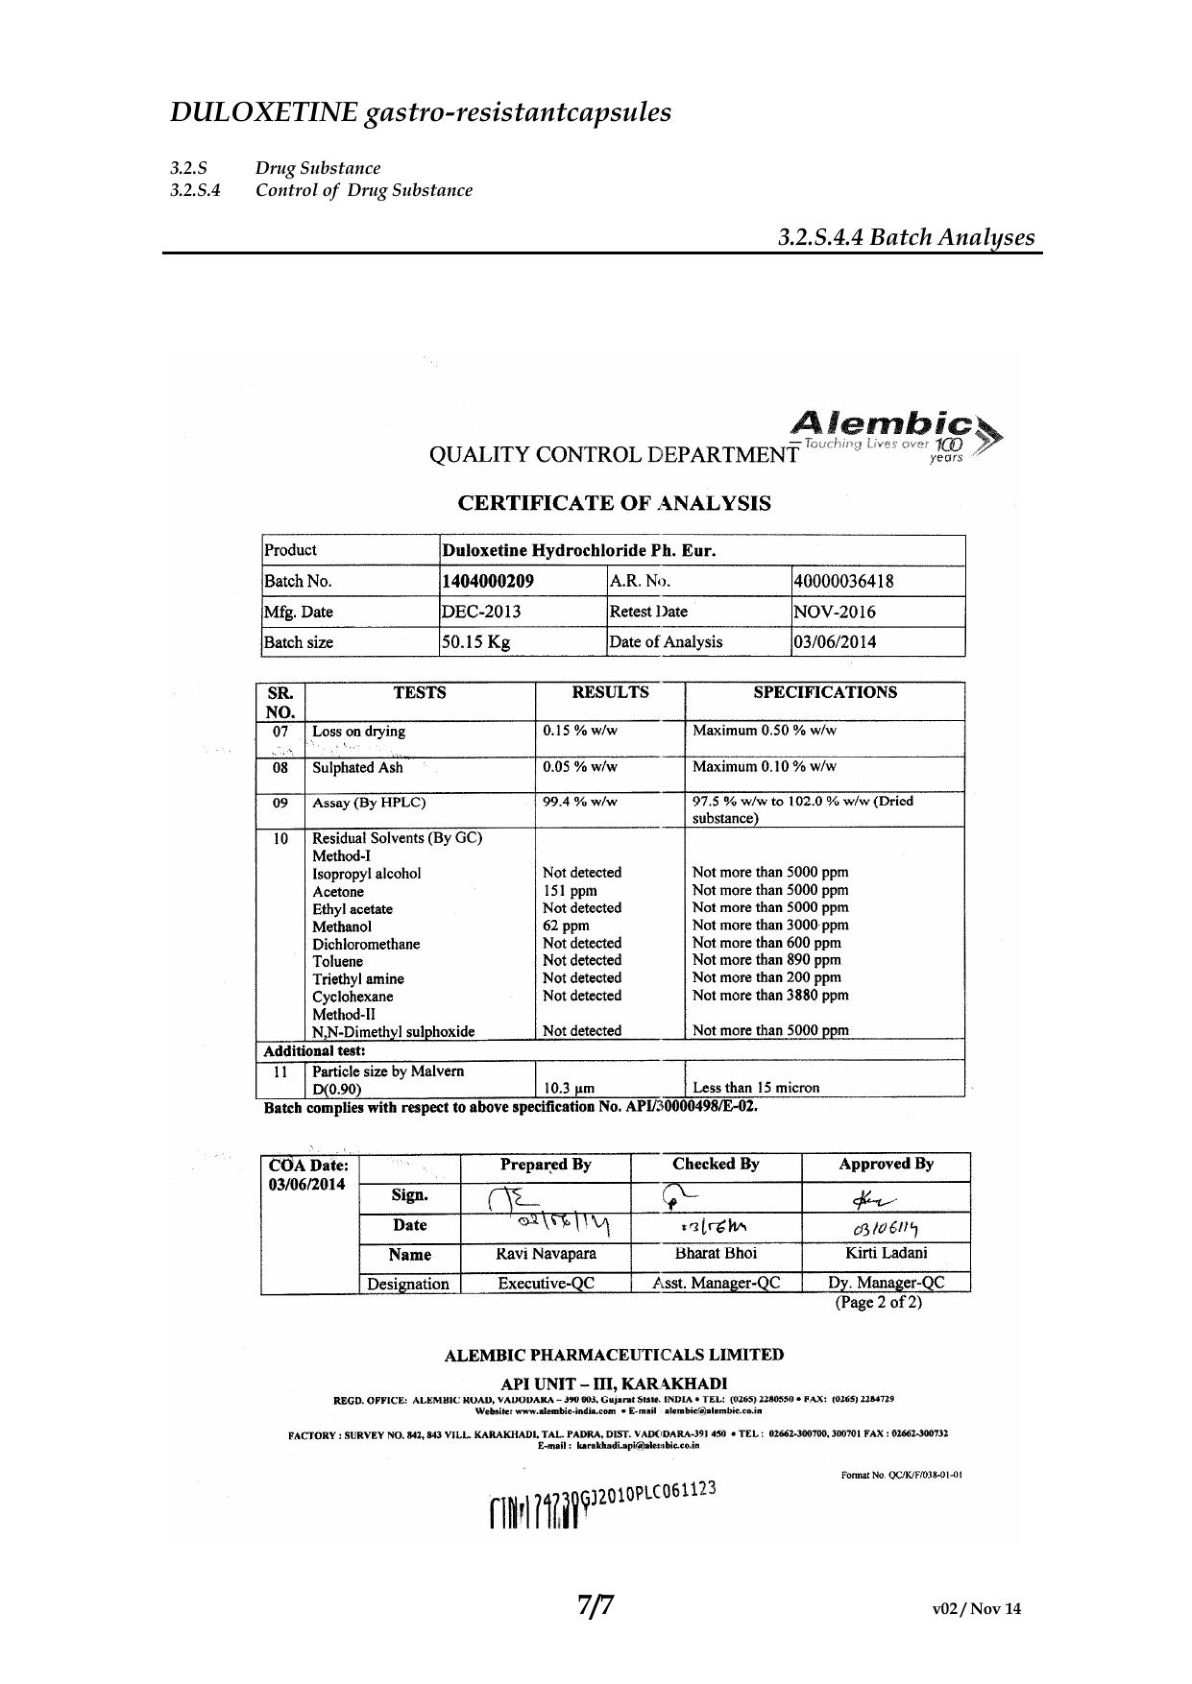merged_cells: (254, 682, 968, 1099), (257, 1153, 971, 1296), (261, 533, 968, 659)
